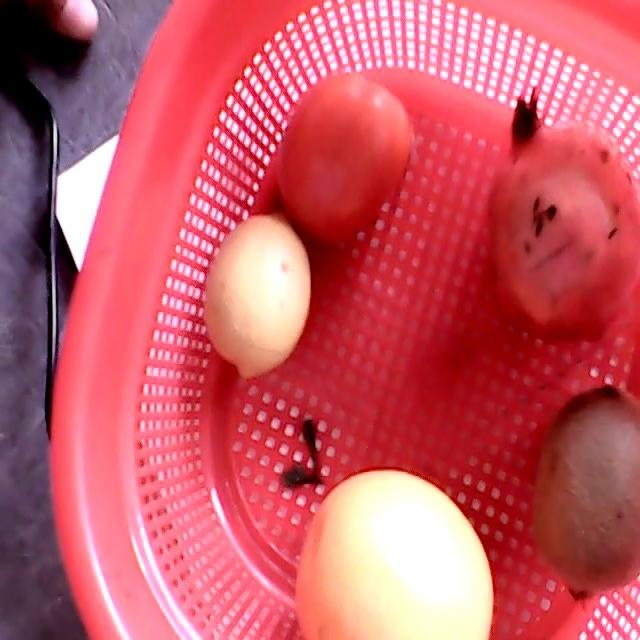kiwi: (531, 384, 639, 599)
lemon: (202, 213, 311, 381)
orange: (295, 467, 494, 639)
pomegranate: (487, 89, 639, 342)
tomato: (276, 67, 412, 248)
